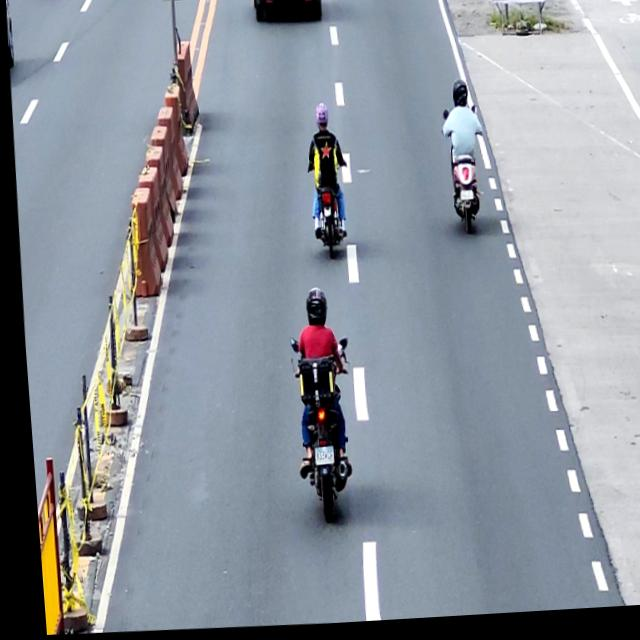Car: (251, 0, 322, 27)
License-Plate: (305, 446, 328, 470), (453, 191, 473, 207)
Motorcycle: (280, 337, 353, 527), (300, 129, 350, 271), (437, 109, 483, 240)
